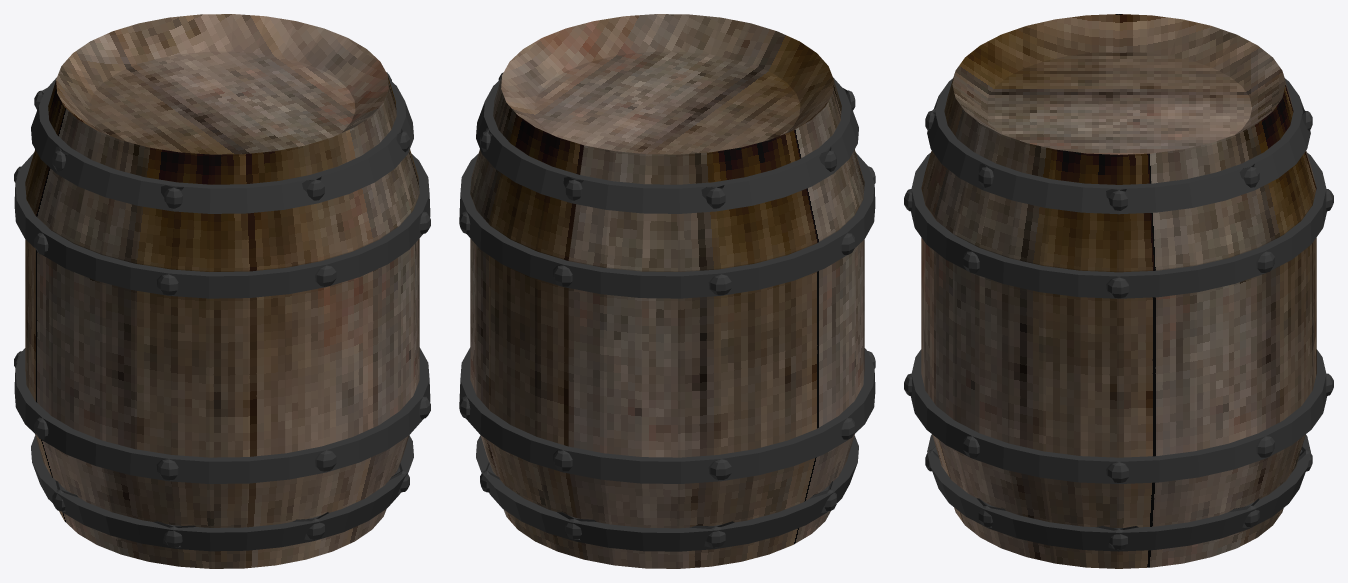
Rendered from barrel1.glb.
3 renders of one model, left to right at view 1: azimuth 30°, elevation 25°; view 2: azimuth 150°, elevation 25°; view 3: azimuth 270°, elevation 25°, orthographic.
Parts seen in each view (by area): view 1: Cylinder, Sphere.002, Sphere, Sphere.001, Sphere.003; view 2: Cylinder, Sphere.002, Sphere, Sphere.001, Sphere.003; view 3: Cylinder, Sphere.002, Sphere, Sphere.001, Sphere.003.
Boxes of the visible parts, x1,y1,x2,y2 form: Cylinder: (25,14,419,568); Sphere.002: (31,72,413,213); Sphere: (14,153,430,298); Sphere.001: (14,347,430,483); Sphere.003: (31,435,413,551); Cylinder: (470,14,864,568); Sphere.002: (476,72,858,213); Sphere: (459,153,875,298); Sphere.001: (459,347,875,483); Sphere.003: (476,435,858,551); Cylinder: (921,14,1316,568); Sphere.002: (925,78,1312,214); Sphere: (904,152,1333,298); Sphere.001: (904,349,1333,483); Sphere.003: (925,434,1312,551).
Bounding box in the file's own units: 0.6058 × 0.6438 × 0.6058.
2 materials, 1 textured.
